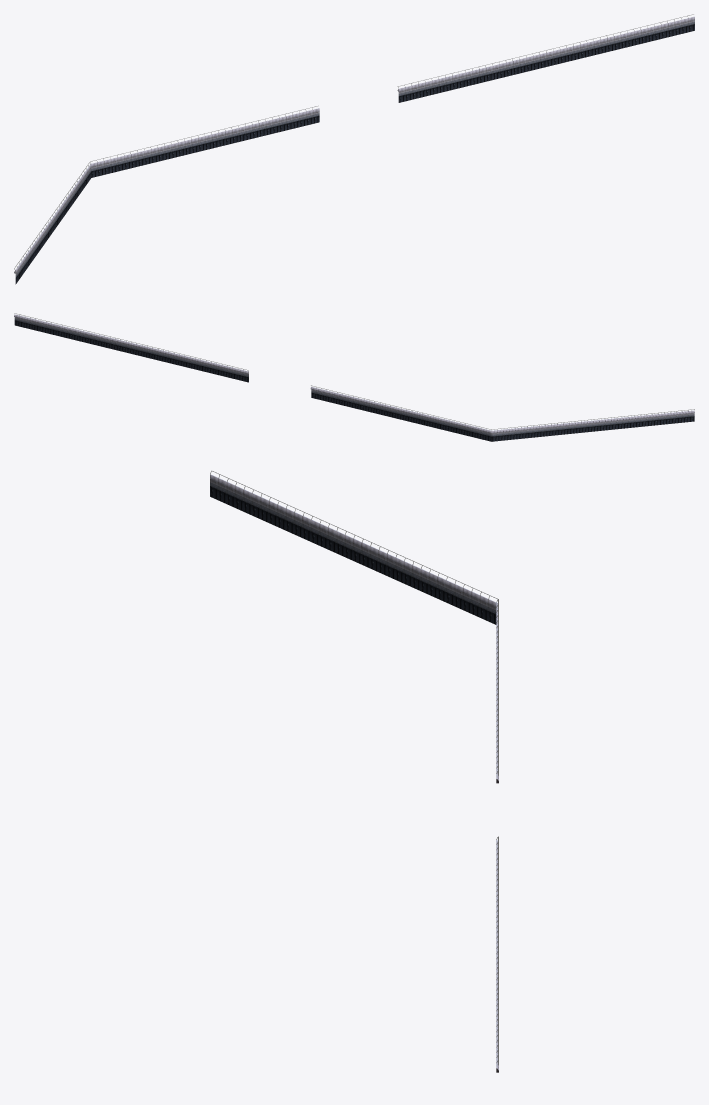
The model's file is railing.glb.
3 renders of one model, top to bottom at view 1: azimuth 30°, elevation 25°; view 2: azimuth 150°, elevation 25°; view 3: azimuth 270°, elevation 25°, orthographic. The views are drawn at different scales.
Parts seen in each view (by area): view 1: railing.003, railing, railing.002; view 2: railing.003, railing.002, railing; view 3: railing.002.
Boxes of the visible parts, <box> form: railing.003: <box>397,14,694,102</box>; railing: <box>90,105,319,177</box>; railing.002: <box>14,162,91,284</box>; railing.003: <box>14,313,248,382</box>; railing.002: <box>491,409,694,441</box>; railing: <box>310,385,492,441</box>; railing.002: <box>210,470,497,624</box>.
Size of the model in its own units: 17.8 by 0.3578 by 3.66.
Materials: 2 (1 with a texture image).
